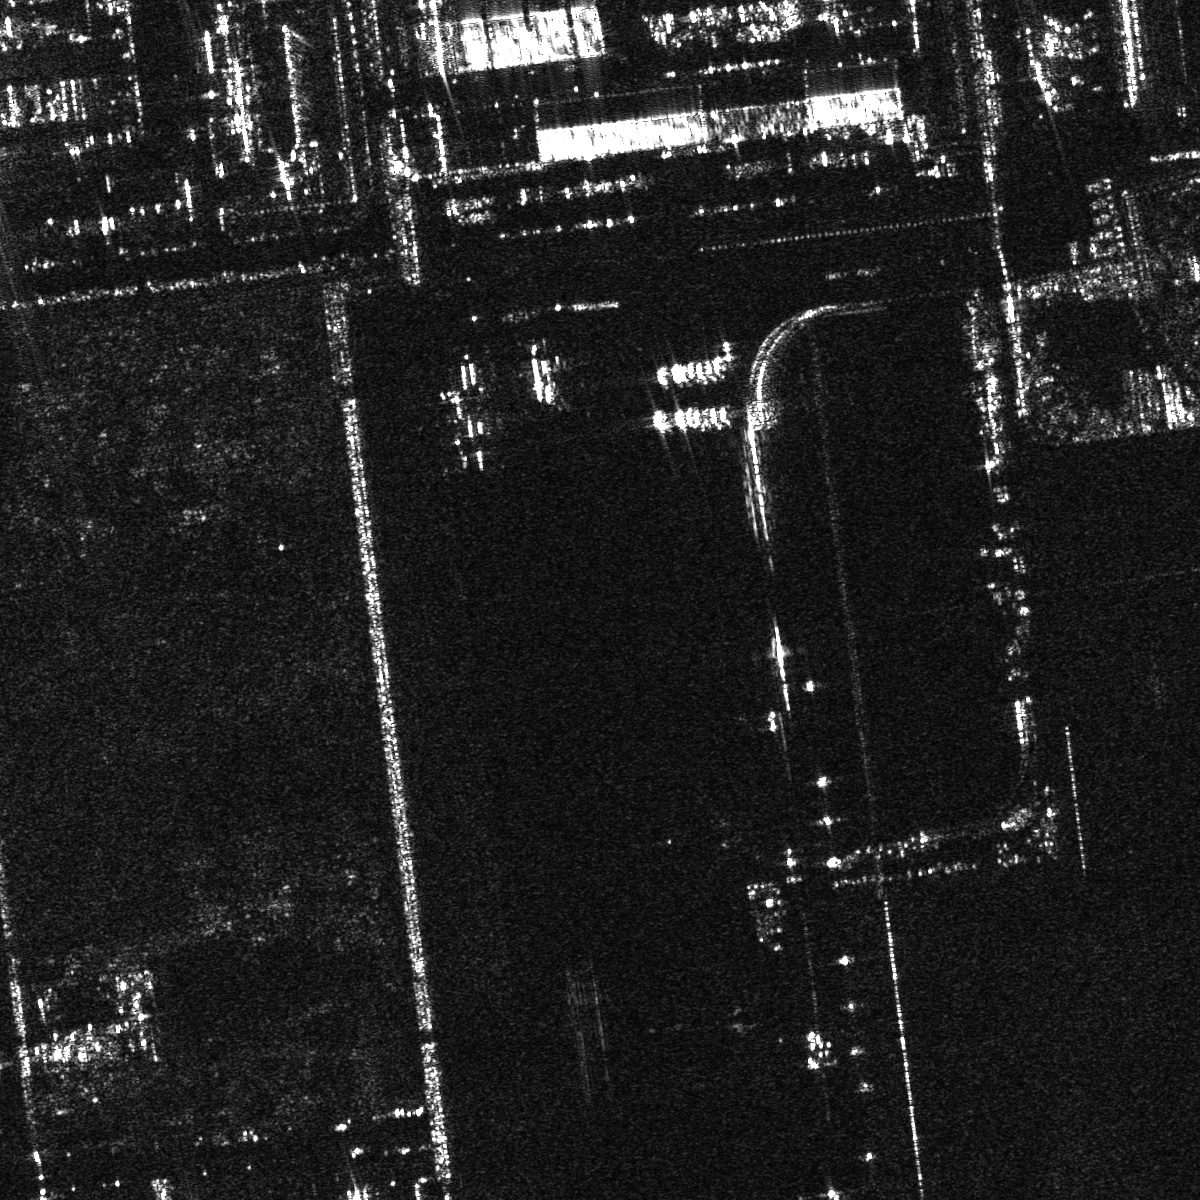Boeing787: (514, 342, 573, 405)
other: (418, 377, 495, 471)
